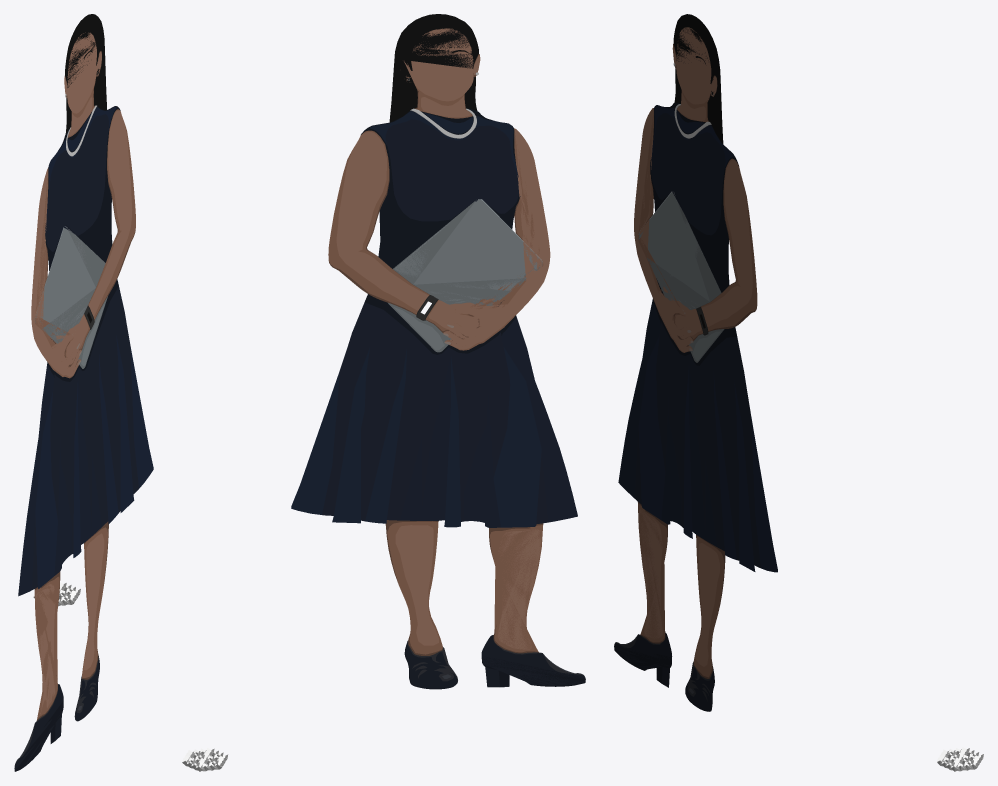
3 views of the same model, side by side, from view 1: azimuth 30°, elevation 25°; view 2: azimuth 150°, elevation 25°; view 3: azimuth 270°, elevation 25° (orthographic). The views are drawn at different scales.
Visible parts, largest first — view 1: Sree1, pcube10_stl1; view 2: Sree1, pcube10_stl1; view 3: Sree1, pcube10_stl1.
Boxes of the visible parts, x1,y1,x2,y2 form: Sree1: (14,14,153,771); pcube10_stl1: (33,582,80,606); Sree1: (291,14,585,689); pcube10_stl1: (182,748,228,771); Sree1: (614,14,777,711); pcube10_stl1: (937,747,983,771).
Size of the model in its own units: 22.42 by 63.14 by 30.48.
